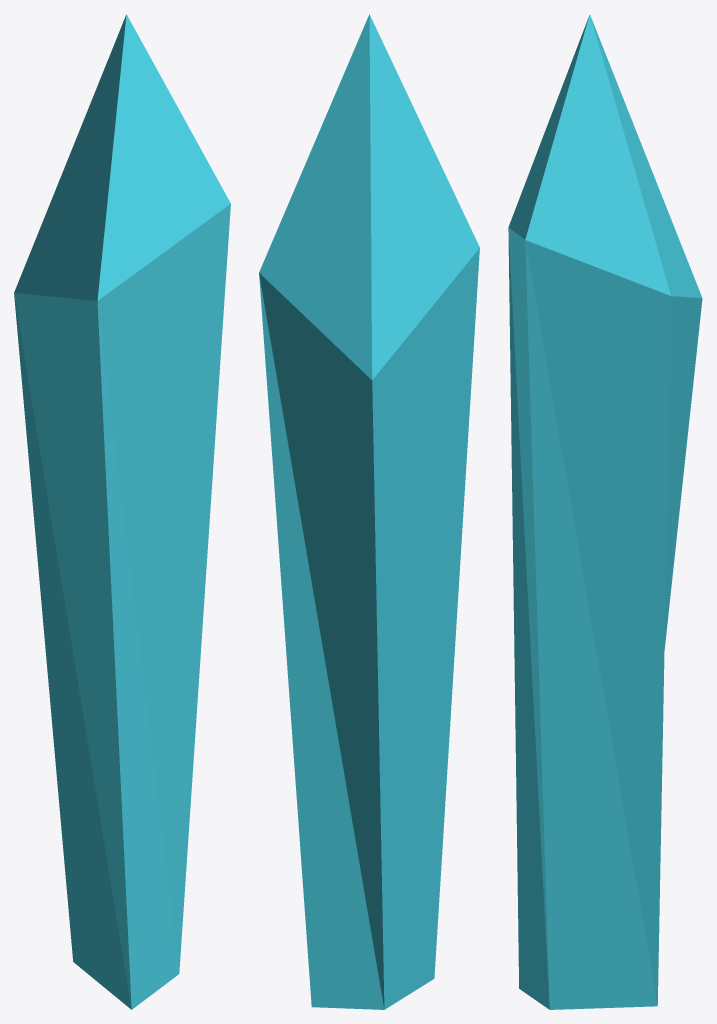
Rendered from crystal5.fbx.
The picture shows the model from 3 angles, left to right: view 1: azimuth 30°, elevation 25°; view 2: azimuth 150°, elevation 25°; view 3: azimuth 270°, elevation 25°; orthographic projection. The views are drawn at different scales.
Parts seen in each view (by area): view 1: crystal1.004; view 2: crystal1.004; view 3: crystal1.004.
Boxes of the visible parts, <box> form: crystal1.004: <box>14,14,230,1009</box>; crystal1.004: <box>259,14,479,1009</box>; crystal1.004: <box>508,14,702,1009</box>.
Bounding box in the file's own units: 48.08 × 313 × 55.58.
